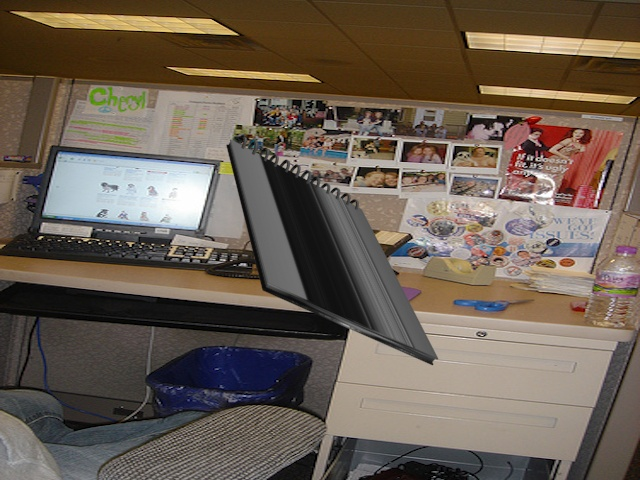paper_notebook: (225, 137, 440, 368)
